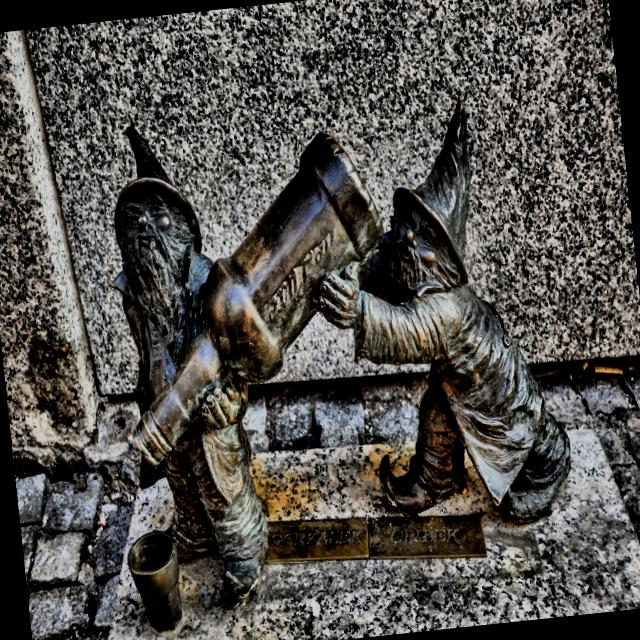Ogorzalek_i_Opilek: (114, 101, 570, 600)
